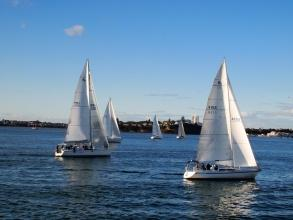fanchuan: (184, 56, 262, 181), (48, 56, 127, 161), (103, 96, 123, 142), (147, 114, 164, 146), (176, 115, 189, 142)
